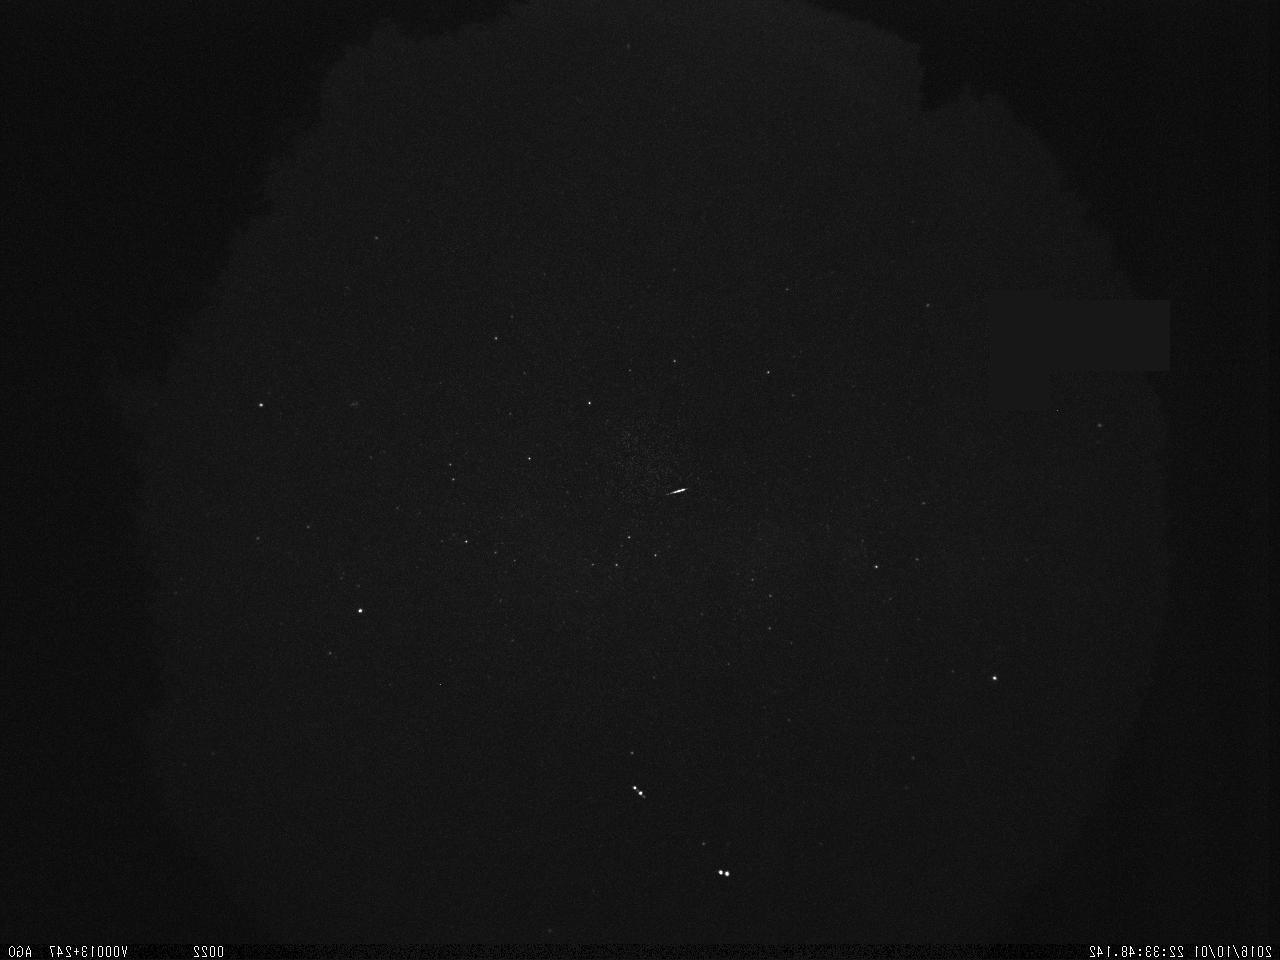meteor: (660, 481, 691, 503)
satelite: (627, 778, 649, 808), (712, 864, 736, 884)
